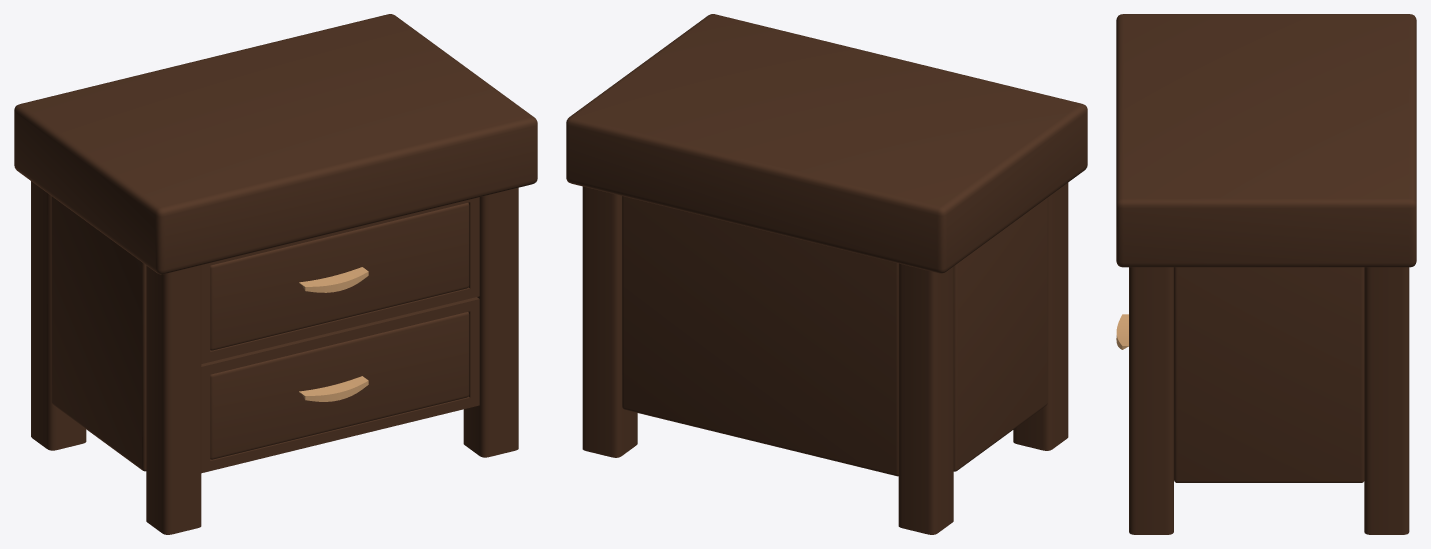
The model's file is Nightstand.fbx.
3 renders of one model, left to right at view 1: azimuth 30°, elevation 25°; view 2: azimuth 150°, elevation 25°; view 3: azimuth 270°, elevation 25°, orthographic. The views are drawn at different scales.
Parts seen in each view (by area): view 1: Nightstand_starnick; view 2: Nightstand_starnick; view 3: Nightstand_starnick.
Boxes of the visible parts, left/top/right/bottom form: Nightstand_starnick: left=14, top=14, right=537, bottom=534; Nightstand_starnick: left=566, top=14, right=1087, bottom=534; Nightstand_starnick: left=1116, top=14, right=1416, bottom=534.
Bounding box in the file's own units: 600 × 401 × 500.
